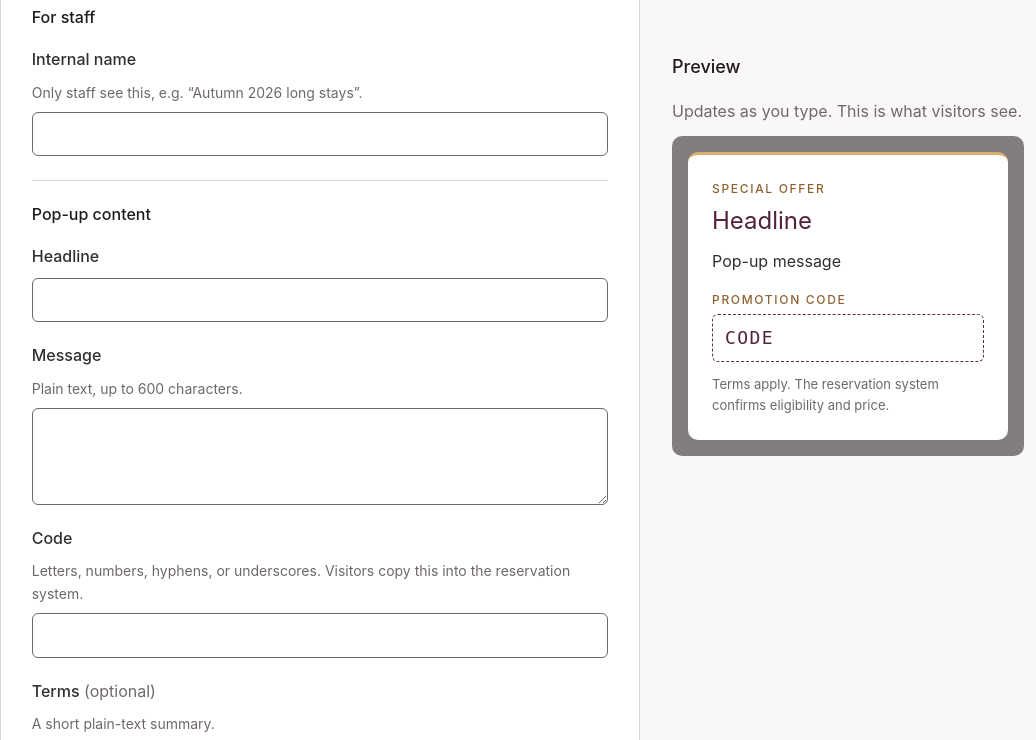
PromotionForm › updates the preview as staff type and labels the time zone
Type "Autumn by the river" into the field labelled "Headline" at (320, 300), box [32,278,608,322]
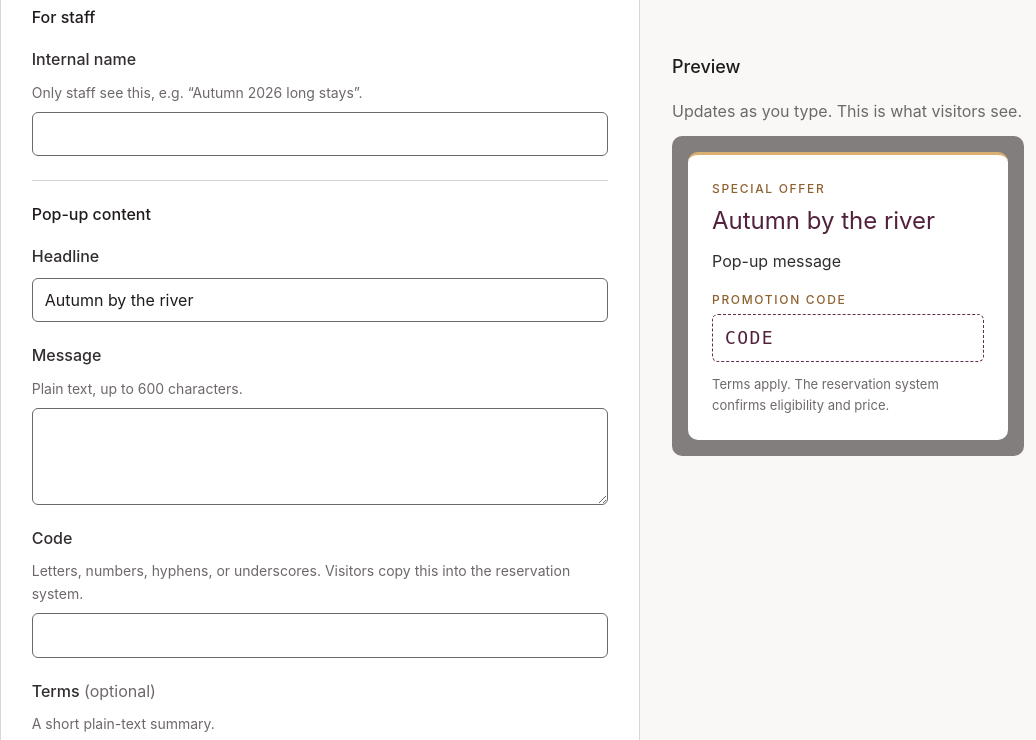
Type "AUTUMN26" into the field labelled "Code" at (320, 636), box [32,613,608,658]
(page scrolled)
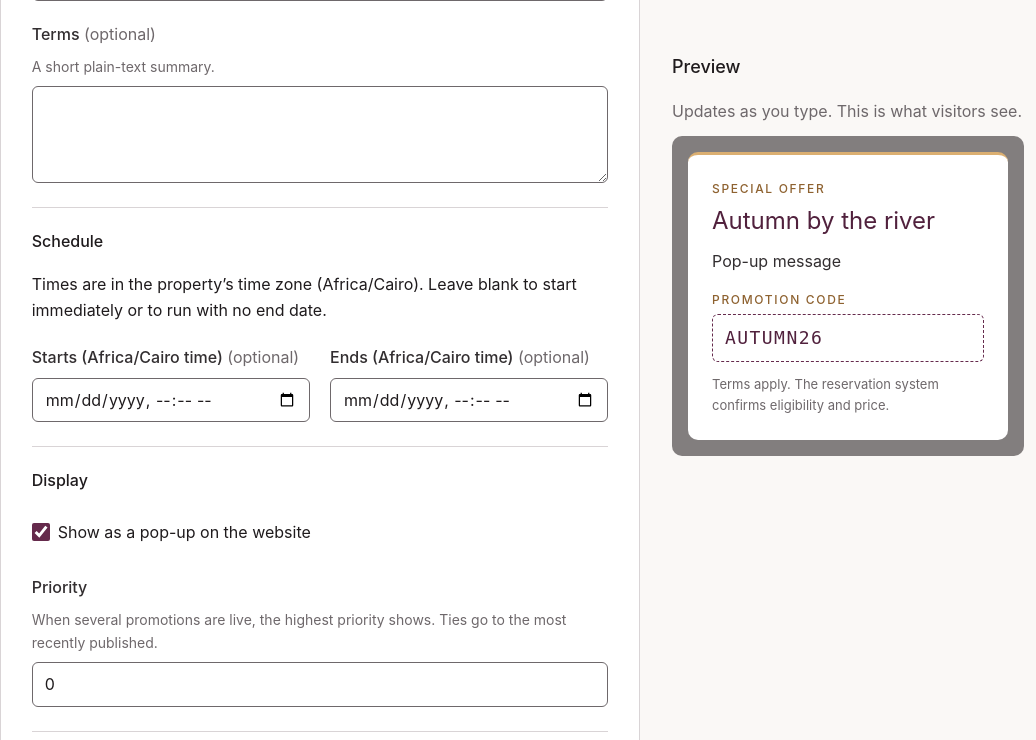
Check: the heading "Autumn by the river" is shown, box [712,206,935,235]
Check: the text "AUTUMN26" is shown, box [712,314,984,362]
